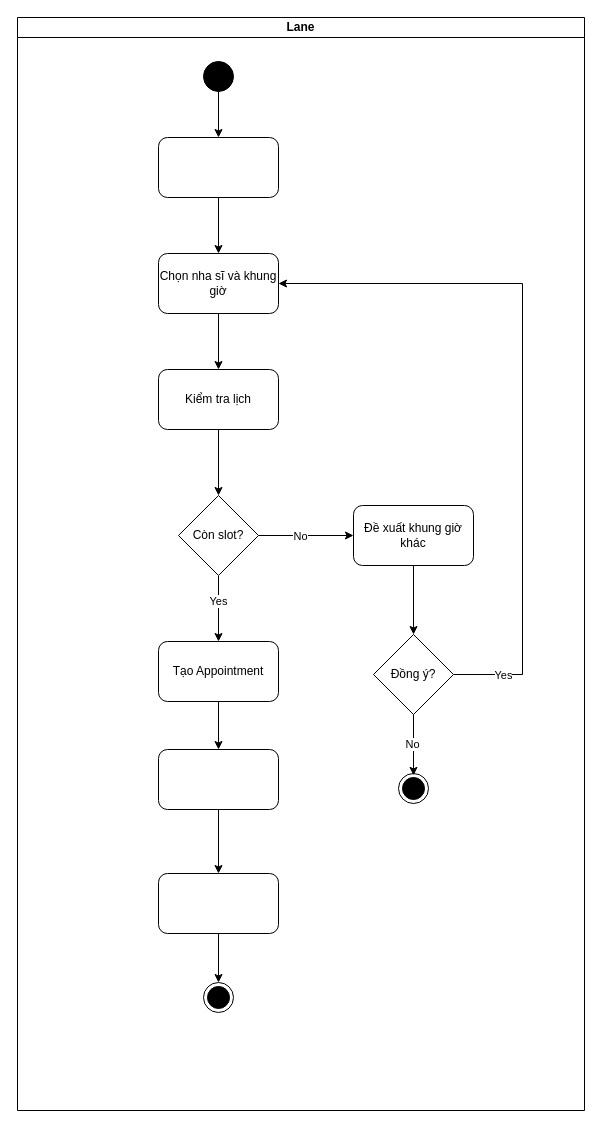
The diagram is 602 pixels wide and 1128 high, and some of its shapes have lost their labels. The box of each missing label's shape, as (x1, y1, x2, y2) in pixels:
Bệnh nhân đặt lich: (158, 136, 278, 198)
Chờ xác nhận: (158, 748, 278, 810)
Thông báo thành công: (158, 872, 278, 934)
